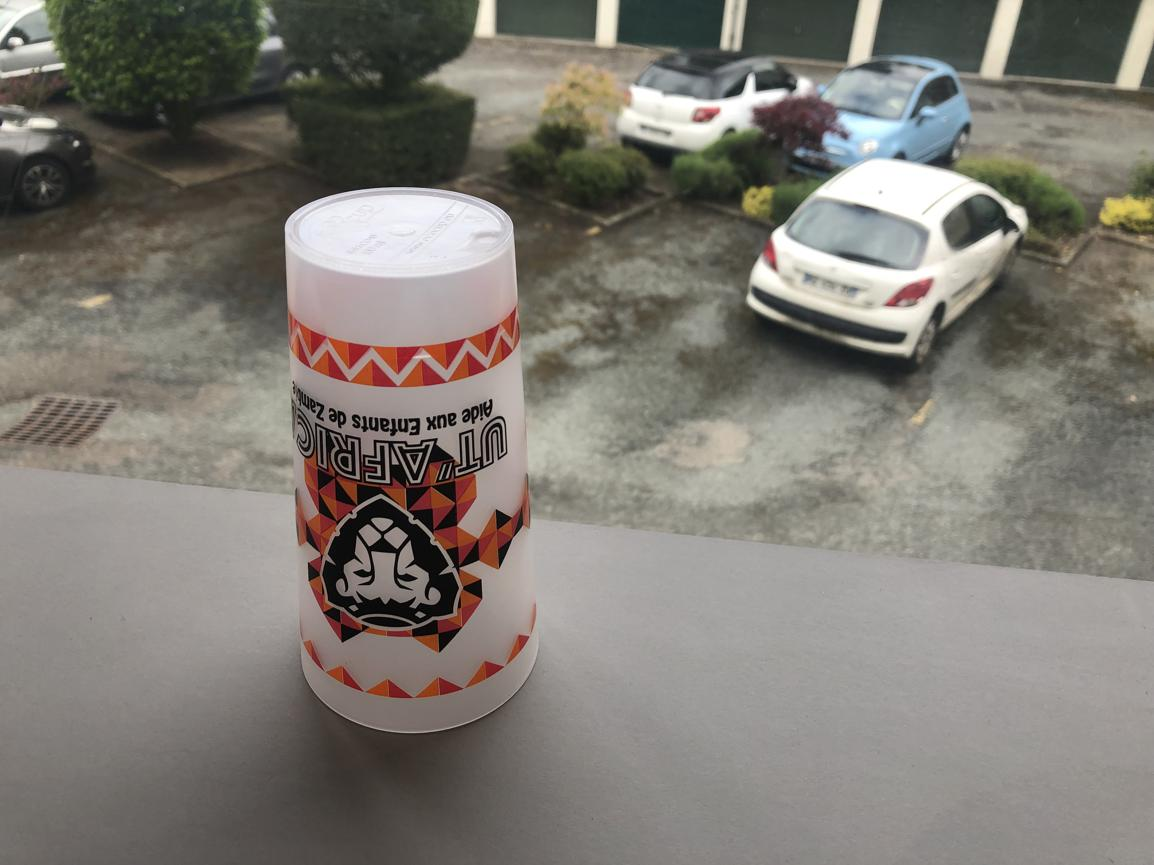ecocup: (283, 187, 541, 733)
